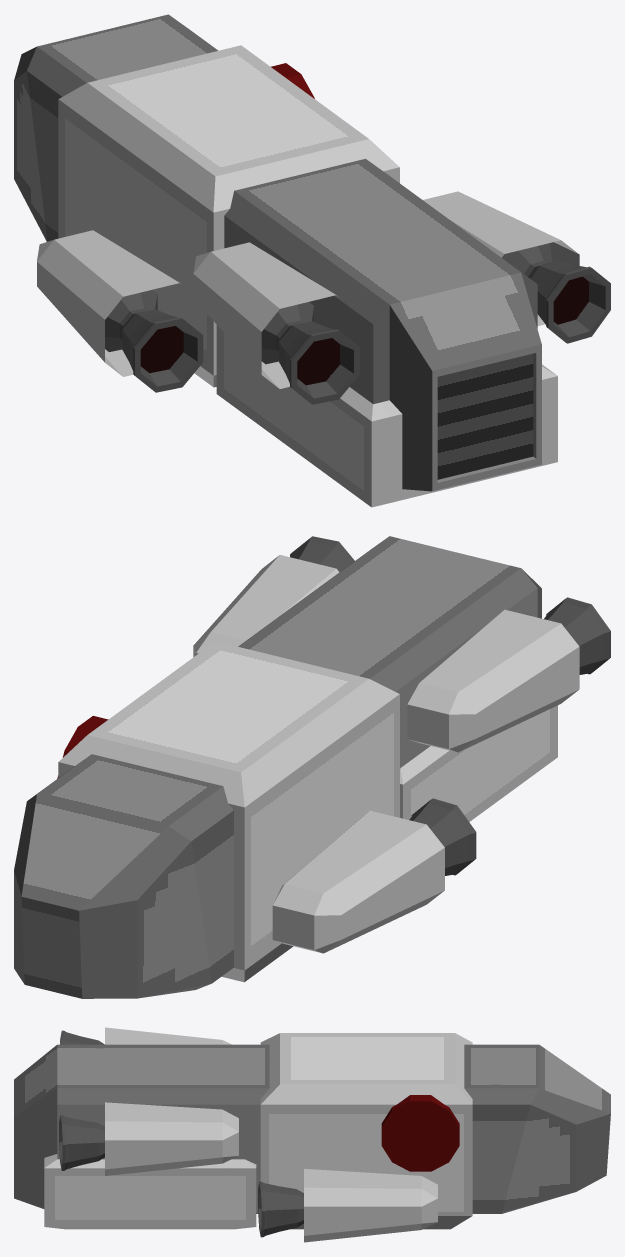
The model's file is Calihan Ship.gltf.
The picture shows the model from 3 angles, top to bottom: view 1: azimuth 30°, elevation 25°; view 2: azimuth 150°, elevation 25°; view 3: azimuth 270°, elevation 25°; orthographic projection. The views are drawn at different scales.
Parts seen in each view (by area): view 1: cuboid (×6), Thruster (×3); view 2: cuboid (×6), Thruster (×3); view 3: cuboid (×6), cylinder, Thruster (×3).
Part boxes in pixels (<box>): cuboid (×6): <box>14,14,579,507</box>; Thruster (×3): <box>105,243,610,404</box>; cuboid (×6): <box>14,536,579,998</box>; Thruster (×3): <box>290,536,610,875</box>; cuboid (×6): <box>14,1027,610,1242</box>; cylinder: <box>381,1095,459,1171</box>; Thruster (×3): <box>59,1030,303,1237</box>.
Size of the model in its own units: 0.3894 by 0.2313 by 0.8625.
1 material, 1 textured.
